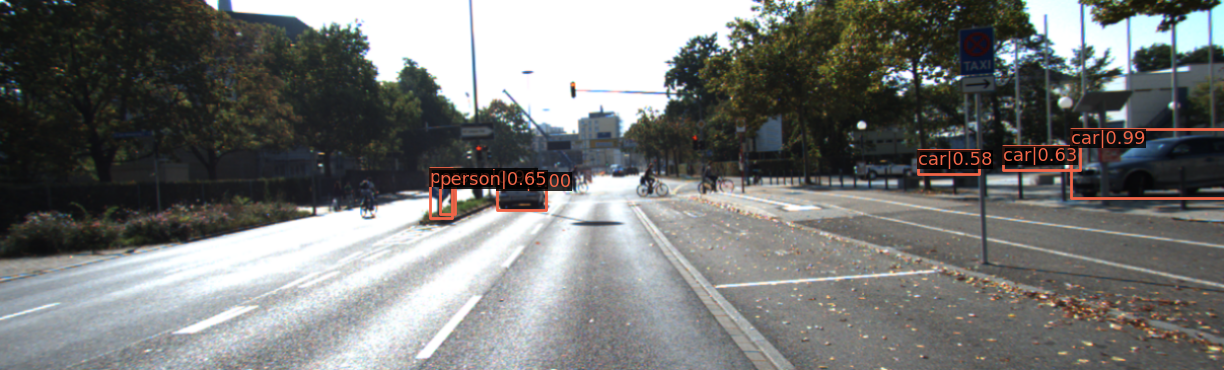car: (1057, 135, 1224, 201), (918, 148, 997, 172), (497, 174, 546, 210)
